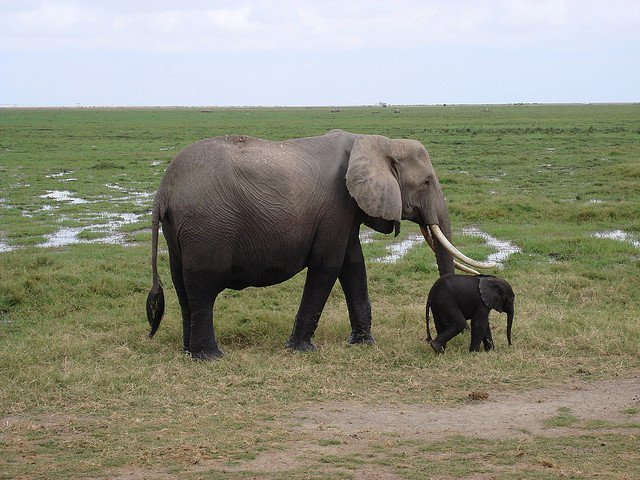elephant: (137, 121, 477, 357), (424, 267, 523, 362)
